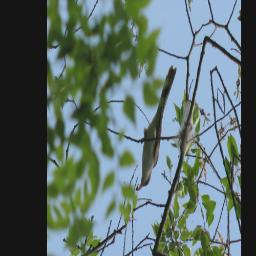Cuckoo: (118, 65, 196, 195)
